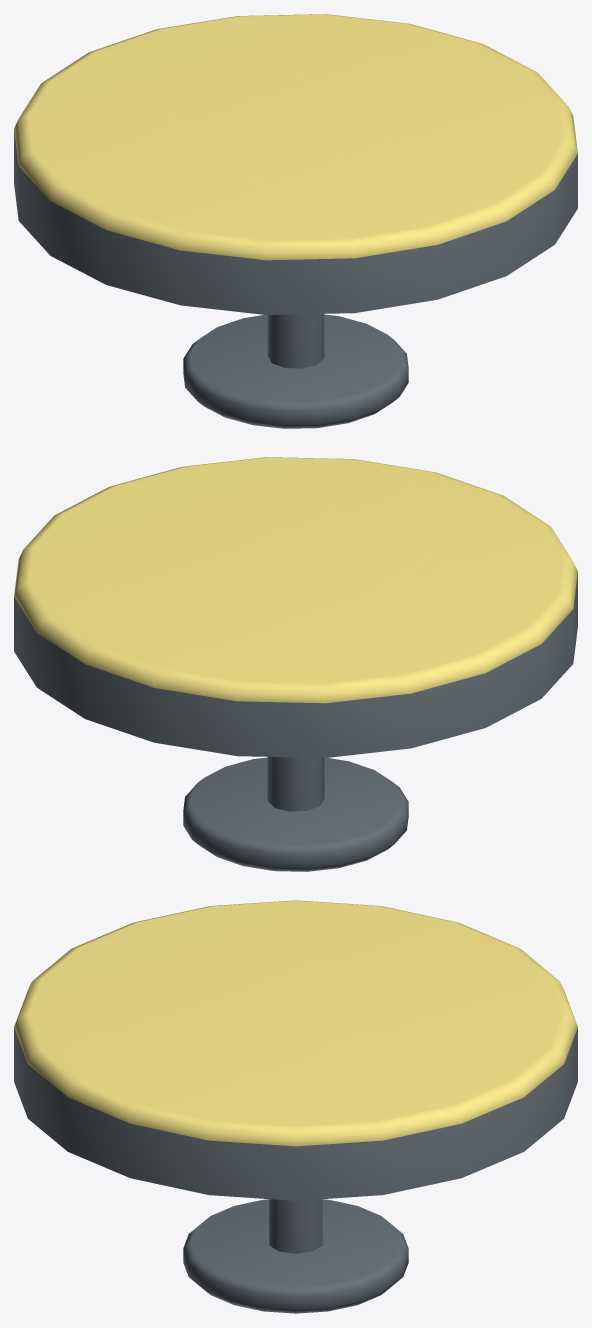
File: Table_Round.fbx
3 renders of one model, top to bottom at view 1: azimuth 30°, elevation 25°; view 2: azimuth 150°, elevation 25°; view 3: azimuth 270°, elevation 25°, orthographic.
Parts seen in each view (by area): view 1: Table_Round; view 2: Table_Round; view 3: Table_Round.
Part boxes in pixels (<box>): Table_Round: <box>14,14,577,428</box>; Table_Round: <box>14,457,577,871</box>; Table_Round: <box>14,900,577,1313</box>.
Size of the model in its own units: 144 by 72 by 144.
